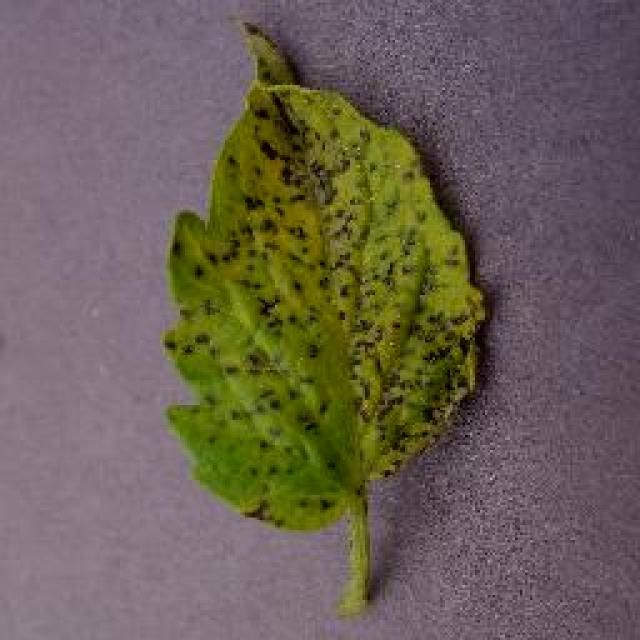leaf_spot: (162, 25, 482, 610)
